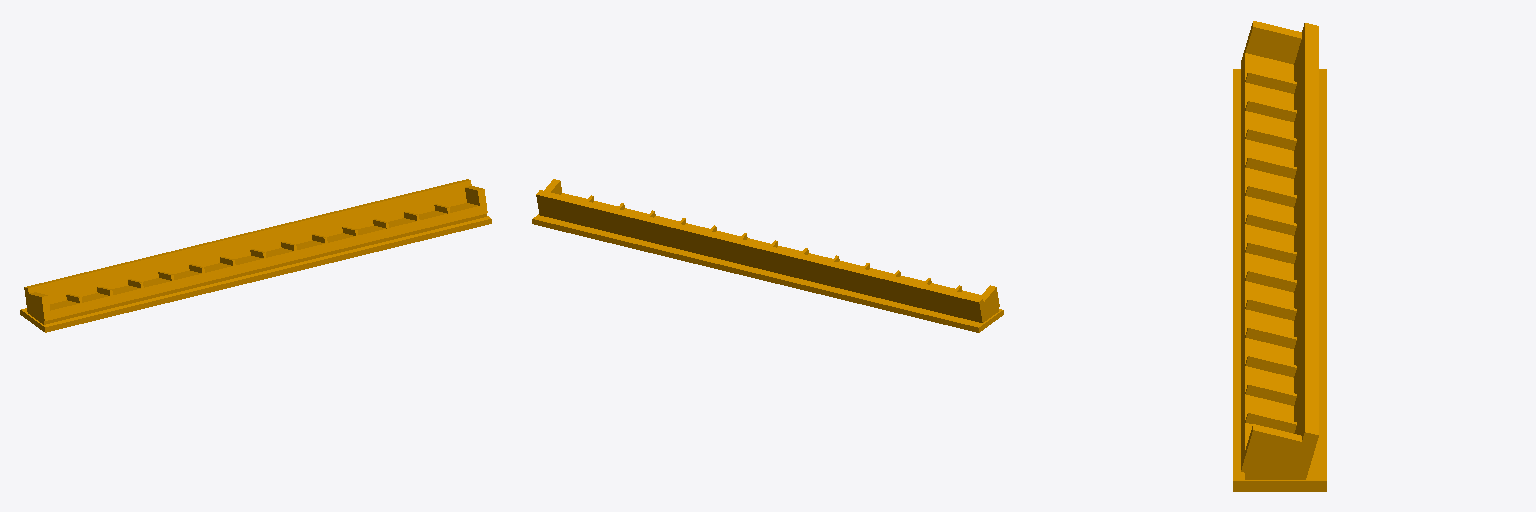
URDF robot description (tile_rack):
<?xml version="1.0"?>
<robot name="tile_rack">
  <link name="rack">
    <inertial>
      <origin xyz="0.000000 0.000852 0.010961" rpy="0 0 0"/>
      <mass value="0.281911"/>
      <inertia ixx="6.67830e-05" iyy="6.58263e-03" izz="6.61040e-03" ixy="-2.70447e-13" ixz="-1.49601e-13" iyz="-8.46651e-06"/>
    </inertial>
    <visual>
      <origin xyz="0 0 0" rpy="0 0 0"/>
      <geometry><mesh filename="rack.obj"/></geometry>
    </visual>
    <collision>
      <origin xyz="0.000000 -0.002847 0.010871" rpy="-0.261799 0 0"/>
      <geometry><box size="0.520000 0.035000 0.009500"/></geometry>
    </collision>
    <collision>
      <origin xyz="0.000000 0.013040 0.018002" rpy="-0.261799 0 0"/>
      <geometry><box size="0.520000 0.008000 0.031500"/></geometry>
    </collision>
    <collision>
      <origin xyz="-0.216000 -0.004351 0.018779" rpy="-0.261799 0 0"/>
      <geometry><box size="0.003000 0.028000 0.007000"/></geometry>
    </collision>
    <collision>
      <origin xyz="-0.180000 -0.004351 0.018779" rpy="-0.261799 0 0"/>
      <geometry><box size="0.003000 0.028000 0.007000"/></geometry>
    </collision>
    <collision>
      <origin xyz="-0.144000 -0.004351 0.018779" rpy="-0.261799 0 0"/>
      <geometry><box size="0.003000 0.028000 0.007000"/></geometry>
    </collision>
    <collision>
      <origin xyz="-0.108000 -0.004351 0.018779" rpy="-0.261799 0 0"/>
      <geometry><box size="0.003000 0.028000 0.007000"/></geometry>
    </collision>
    <collision>
      <origin xyz="-0.072000 -0.004351 0.018779" rpy="-0.261799 0 0"/>
      <geometry><box size="0.003000 0.028000 0.007000"/></geometry>
    </collision>
    <collision>
      <origin xyz="-0.036000 -0.004351 0.018779" rpy="-0.261799 0 0"/>
      <geometry><box size="0.003000 0.028000 0.007000"/></geometry>
    </collision>
    <collision>
      <origin xyz="0.000000 -0.004351 0.018779" rpy="-0.261799 0 0"/>
      <geometry><box size="0.003000 0.028000 0.007000"/></geometry>
    </collision>
    <collision>
      <origin xyz="0.036000 -0.004351 0.018779" rpy="-0.261799 0 0"/>
      <geometry><box size="0.003000 0.028000 0.007000"/></geometry>
    </collision>
    <collision>
      <origin xyz="0.072000 -0.004351 0.018779" rpy="-0.261799 0 0"/>
      <geometry><box size="0.003000 0.028000 0.007000"/></geometry>
    </collision>
    <collision>
      <origin xyz="0.108000 -0.004351 0.018779" rpy="-0.261799 0 0"/>
      <geometry><box size="0.003000 0.028000 0.007000"/></geometry>
    </collision>
    <collision>
      <origin xyz="0.144000 -0.004351 0.018779" rpy="-0.261799 0 0"/>
      <geometry><box size="0.003000 0.028000 0.007000"/></geometry>
    </collision>
    <collision>
      <origin xyz="0.180000 -0.004351 0.018779" rpy="-0.261799 0 0"/>
      <geometry><box size="0.003000 0.028000 0.007000"/></geometry>
    </collision>
    <collision>
      <origin xyz="0.216000 -0.004351 0.018779" rpy="-0.261799 0 0"/>
      <geometry><box size="0.003000 0.028000 0.007000"/></geometry>
    </collision>
    <collision>
      <origin xyz="-0.256000 -0.000776 0.018598" rpy="-0.261799 0 0"/>
      <geometry><box size="0.008000 0.035000 0.025500"/></geometry>
    </collision>
    <collision>
      <origin xyz="0.256000 -0.000776 0.018598" rpy="-0.261799 0 0"/>
      <geometry><box size="0.008000 0.035000 0.025500"/></geometry>
    </collision>
    <collision>
      <origin xyz="0.000000 -0.003576 0.007750" rpy="0.000000 0 0"/>
      <geometry><box size="0.520000 0.030807 0.007500"/></geometry>
    </collision>
    <collision>
      <origin xyz="0.000000 0.000000 0.003000" rpy="0.000000 0 0"/>
      <geometry><box size="0.524000 0.049960 0.006000"/></geometry>
    </collision>
  </link>
</robot>

--- Render facts (derived) ---
The picture shows the robot from 3 angles, left to right: view 1: azimuth 30°, elevation 25°; view 2: azimuth 150°, elevation 25°; view 3: azimuth 270°, elevation 25°; orthographic projection.
Robot: tile_rack — 1 links, 0 joints (none); root link rack; default pose: all joints at 0.
Links seen in each view (by area): view 1: rack; view 2: rack; view 3: rack.
Link boxes in pixels (x1,y1,x2,y2): rack: [20, 179, 491, 332]; rack: [532, 179, 1003, 332]; rack: [1233, 21, 1326, 491].
Size in the robot's own frame: 0.524 by 0.05 by 0.0354 metres.
Meshes: 1 distinct files referenced, 1 mesh visuals loaded (1 OBJ).
